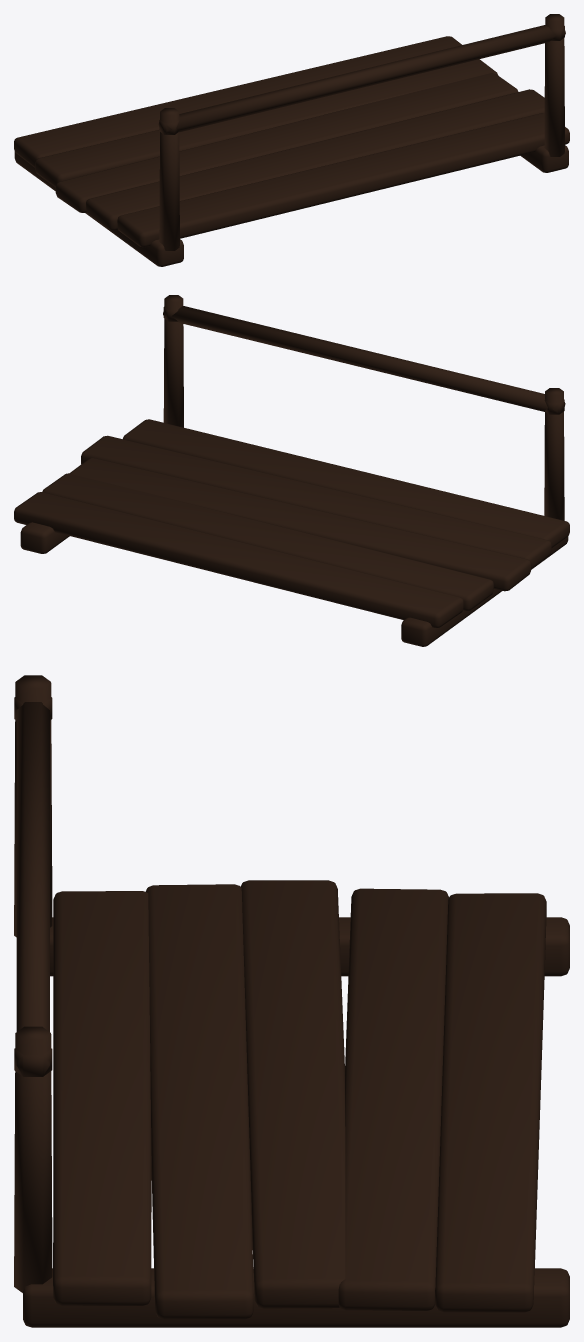
File: footbridge.glb
The picture shows the model from 3 angles, top to bottom: view 1: azimuth 30°, elevation 25°; view 2: azimuth 150°, elevation 25°; view 3: azimuth 270°, elevation 25°; orthographic projection. The views are drawn at different scales.
Parts seen in each view (by area): view 1: footbridge_outline; view 2: footbridge_outline; view 3: footbridge_outline.
Boxes of the visible parts, box(x1,y1,x2,y2) form: footbridge_outline: box(14, 14, 569, 266); footbridge_outline: box(14, 295, 569, 646); footbridge_outline: box(14, 675, 569, 1327).
Bounding box in the file's own units: 3.56 × 1.14 × 2.01.
